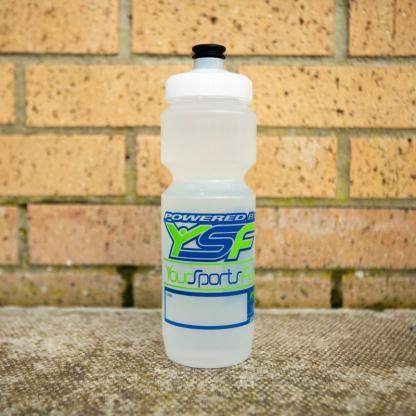plastic_bottle: (157, 39, 261, 373)
